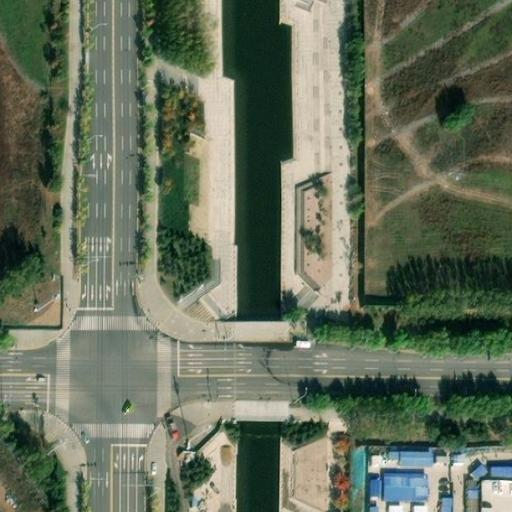building: (383, 473, 427, 497), (391, 452, 433, 463), (467, 490, 480, 512), (491, 468, 512, 478), (440, 497, 453, 512), (388, 505, 404, 512), (414, 506, 429, 512)
